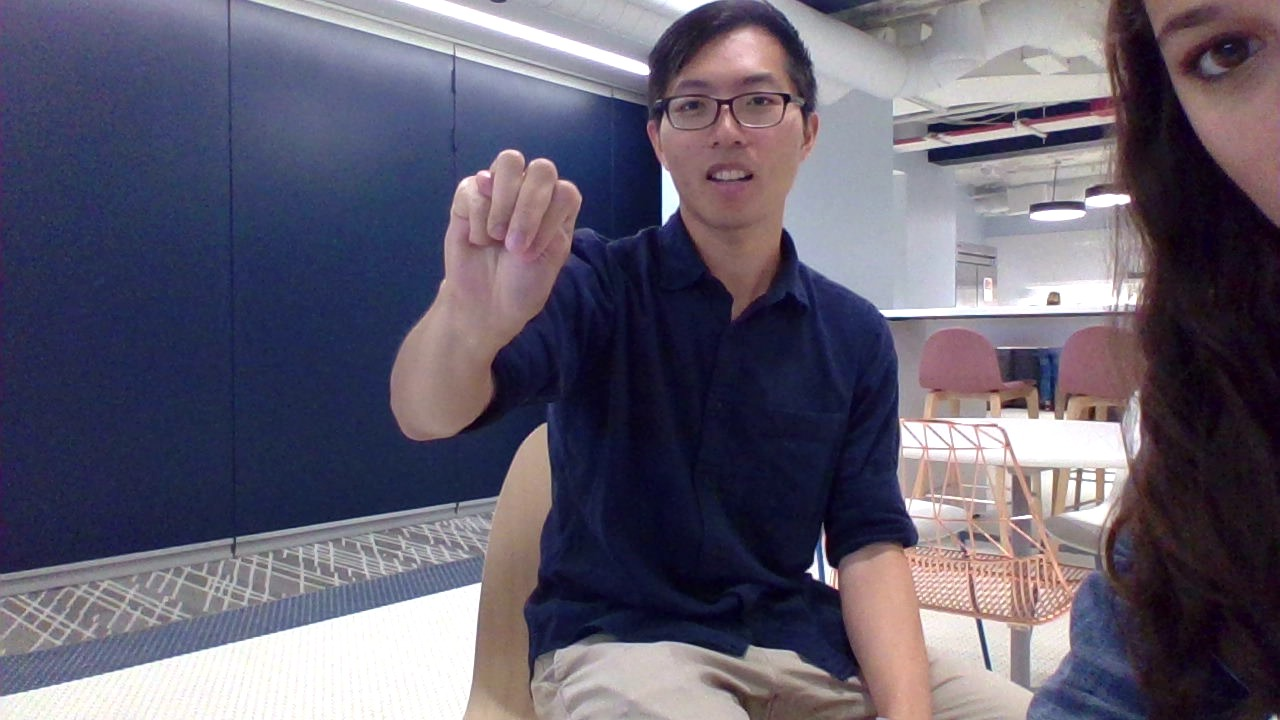m: (417, 138, 600, 354)
